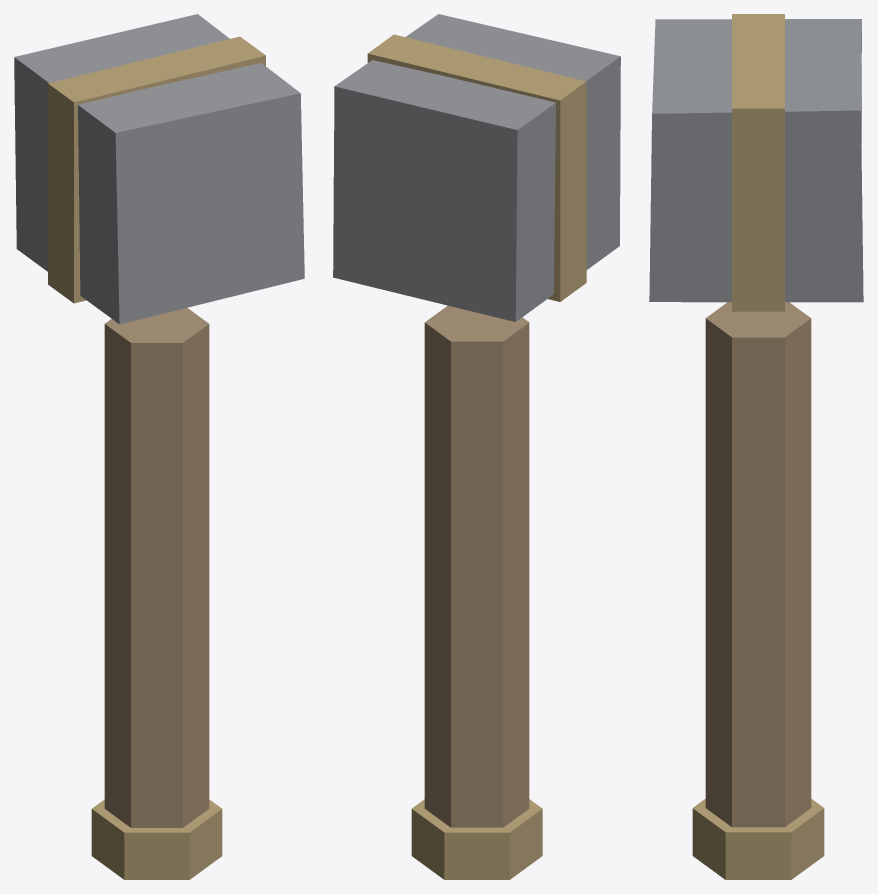
The model's file is maul.glb.
3 renders of one model, left to right at view 1: azimuth 30°, elevation 25°; view 2: azimuth 150°, elevation 25°; view 3: azimuth 270°, elevation 25°, orthographic.
Visible parts, largest first — view 1: maul; view 2: maul; view 3: maul.
Boxes of the visible parts, x1,y1,x2,y2 form: maul: [14, 14, 304, 879]; maul: [333, 14, 620, 879]; maul: [649, 14, 863, 879].
Size of the model in its own units: 0.17 by 0.665 by 0.1625.
